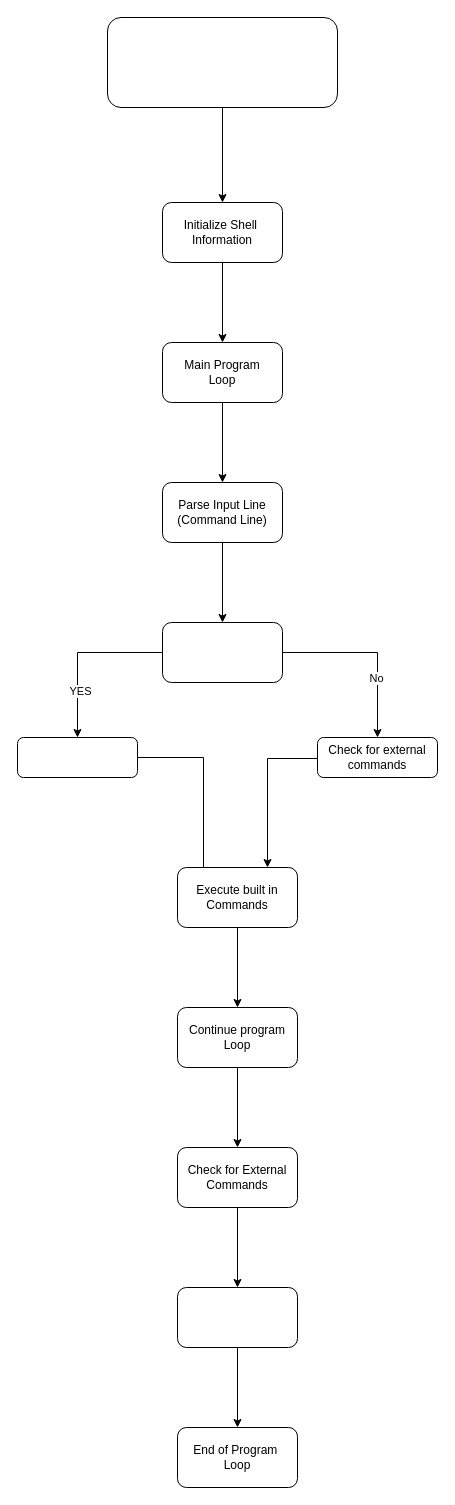
Some shapes in this 455 by 1505 pixel diagram are drawn without their labels. Each missing label, with the centre of its shape:
"Check for Built-in Commands" belongs at pixel 222 652.
"Executes the built in command" belongs at pixel 77 757.
"Fork and Execute External Command" belongs at pixel 237 1317.
"Start Program" belongs at pixel 222 62.
